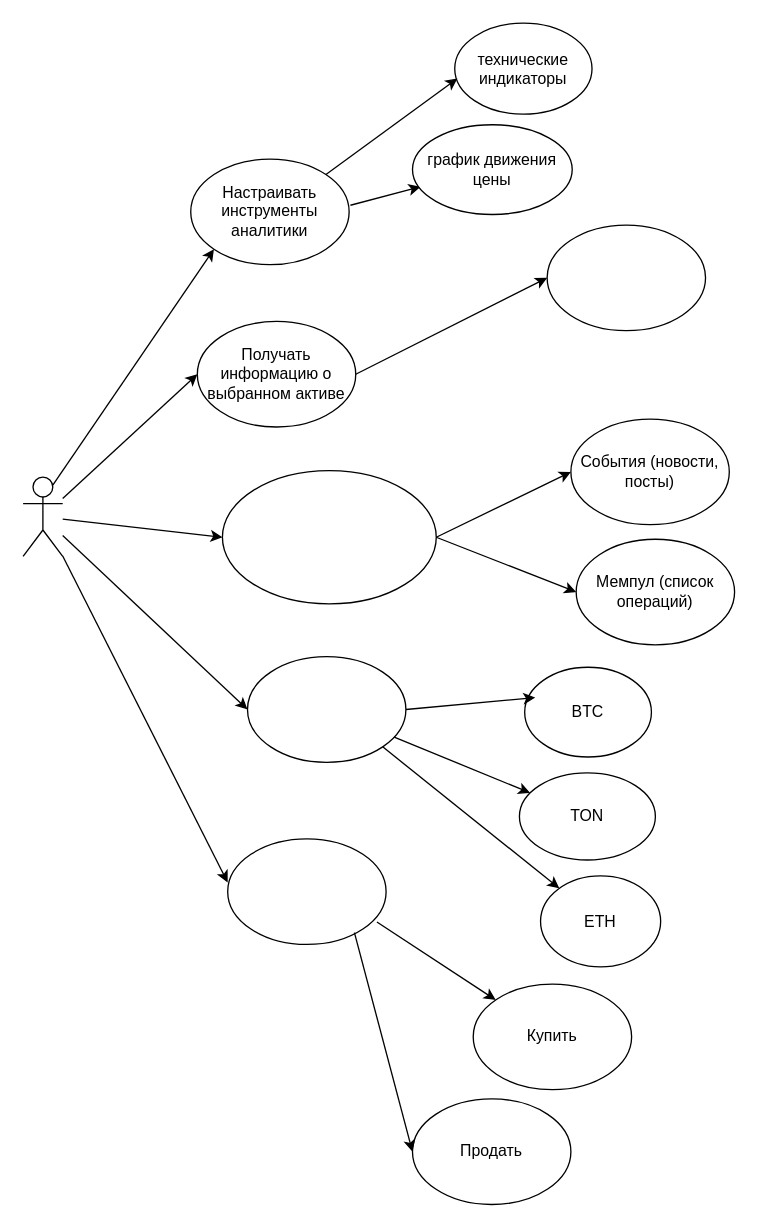
This 758x1228 diagram has some shape labels left out. Here are the shapes that lost their labels. From the top down, the box of each, then its label:
(546, 224, 706, 331): Свечи (OHLCV)
(22, 476, 63, 556): User
(221, 469, 436, 604): Получать информацию о факторах, влияющих на выбранный актив
(246, 655, 406, 762): Менять выбранный актив
(226, 838, 386, 944): Получать сигналы к операциям
